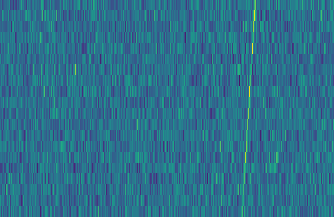signal: (238, 0, 261, 217)
